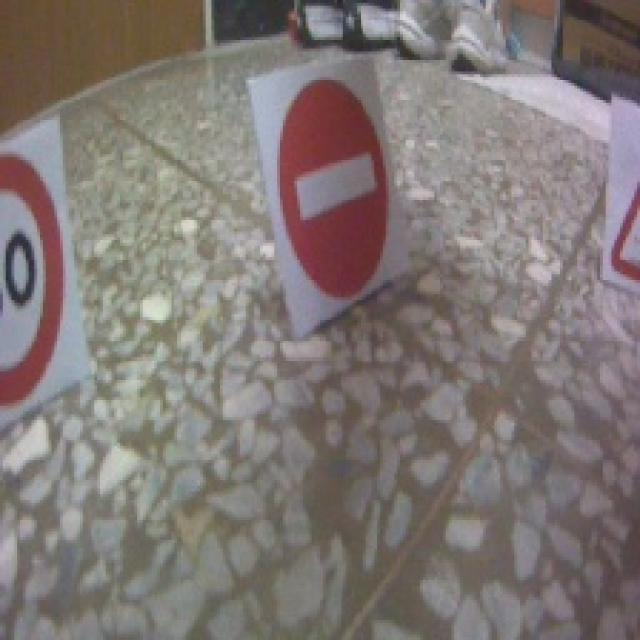DoNotEnterSign: (279, 83, 391, 295)
